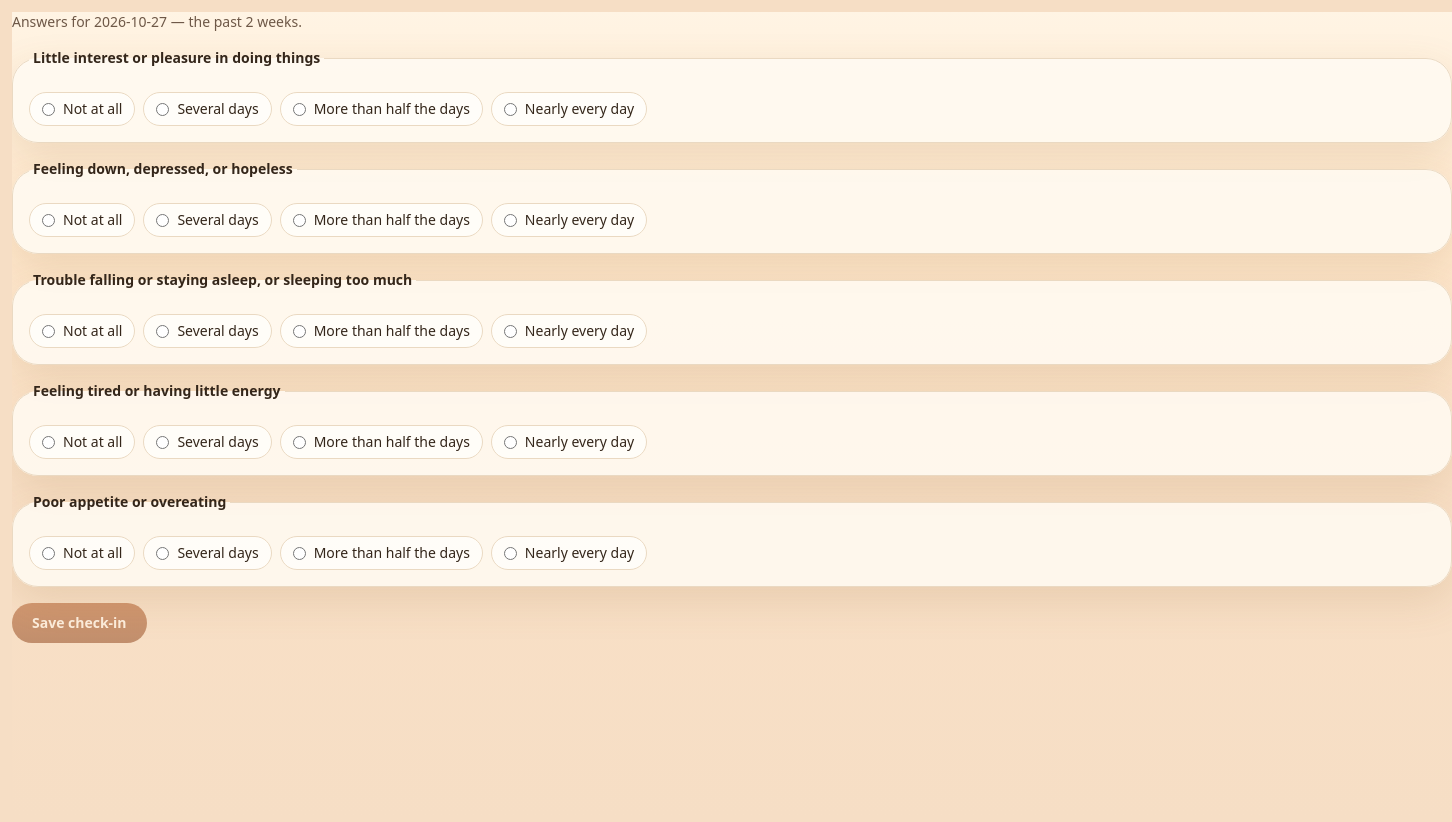
Test: CheckInForm error notices › shows the 422 copy verbatim in an alert
Click the 1st radio button labelled "Not at all".
click(48, 109)  # box [42,102,55,116]
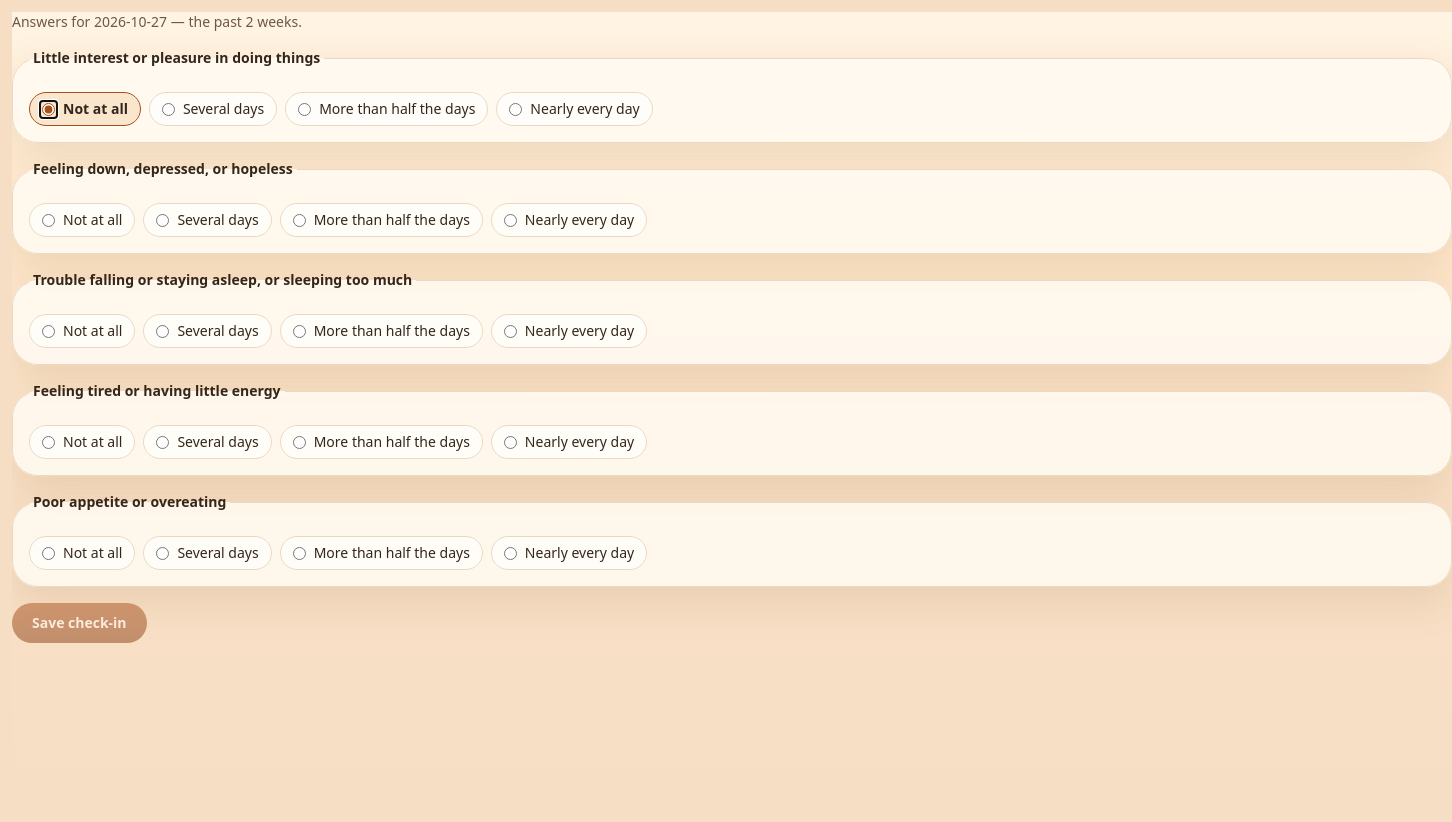
Click the radio button labelled "Not at all" below "Feeling down, depressed, or hopeless".
click(48, 220)  # box [42,214,55,226]
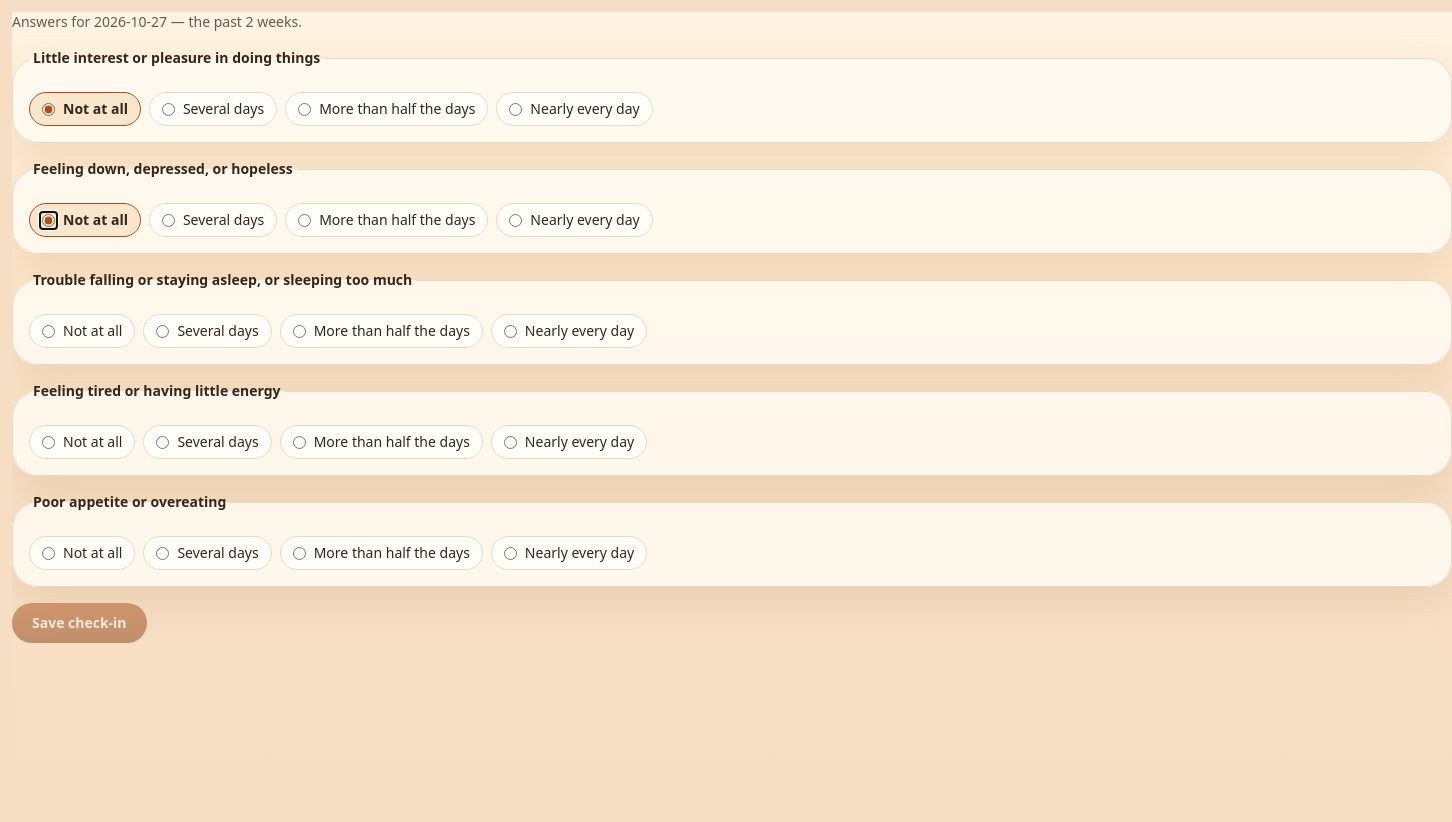
Click the 3rd radio button labelled "Not at all".
click(48, 331)  # box [42,324,55,338]
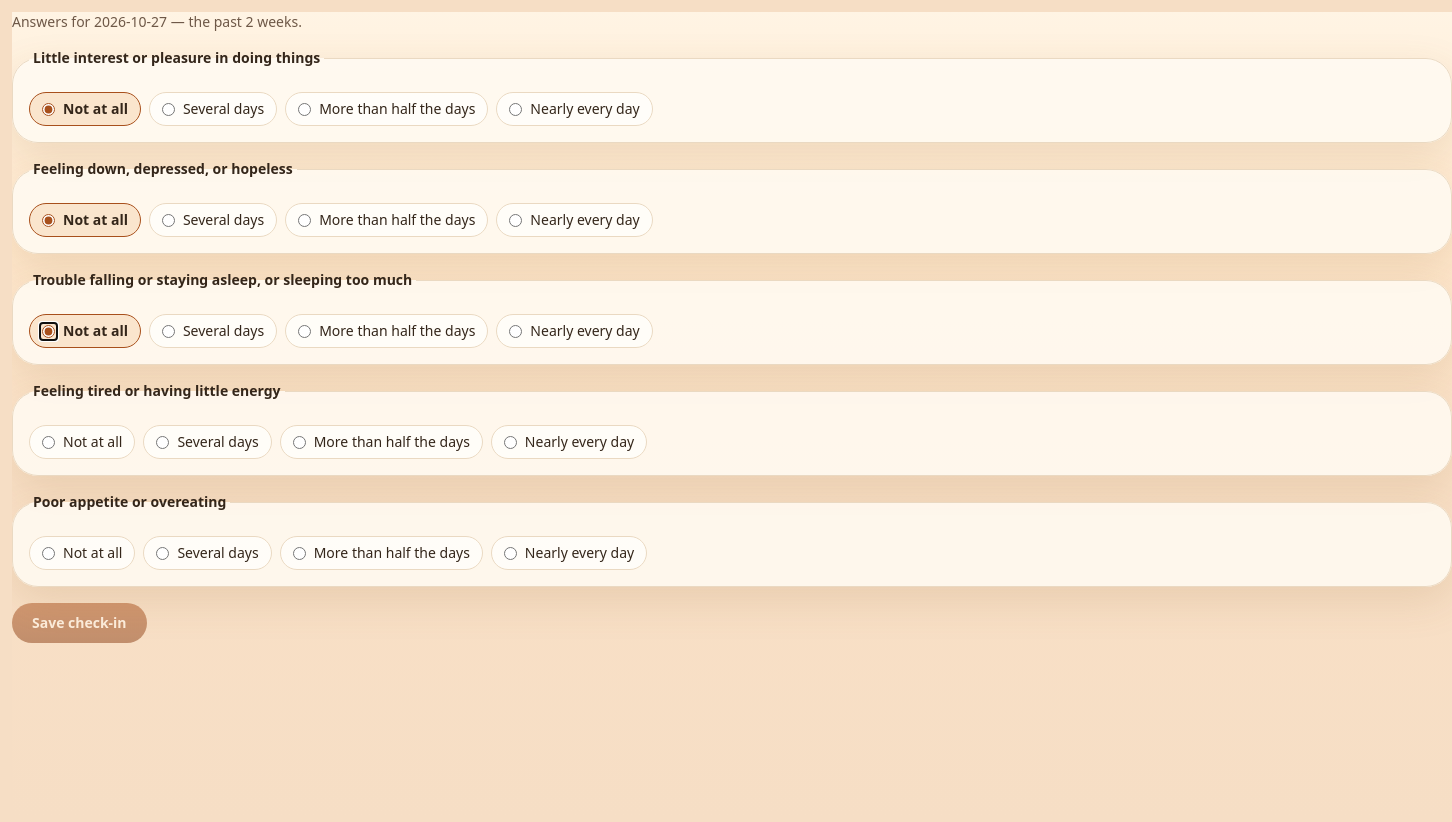
Click the radio button labelled "Not at all" below "Feeling tired or having little energy".
click(48, 442)  # box [42,436,55,448]
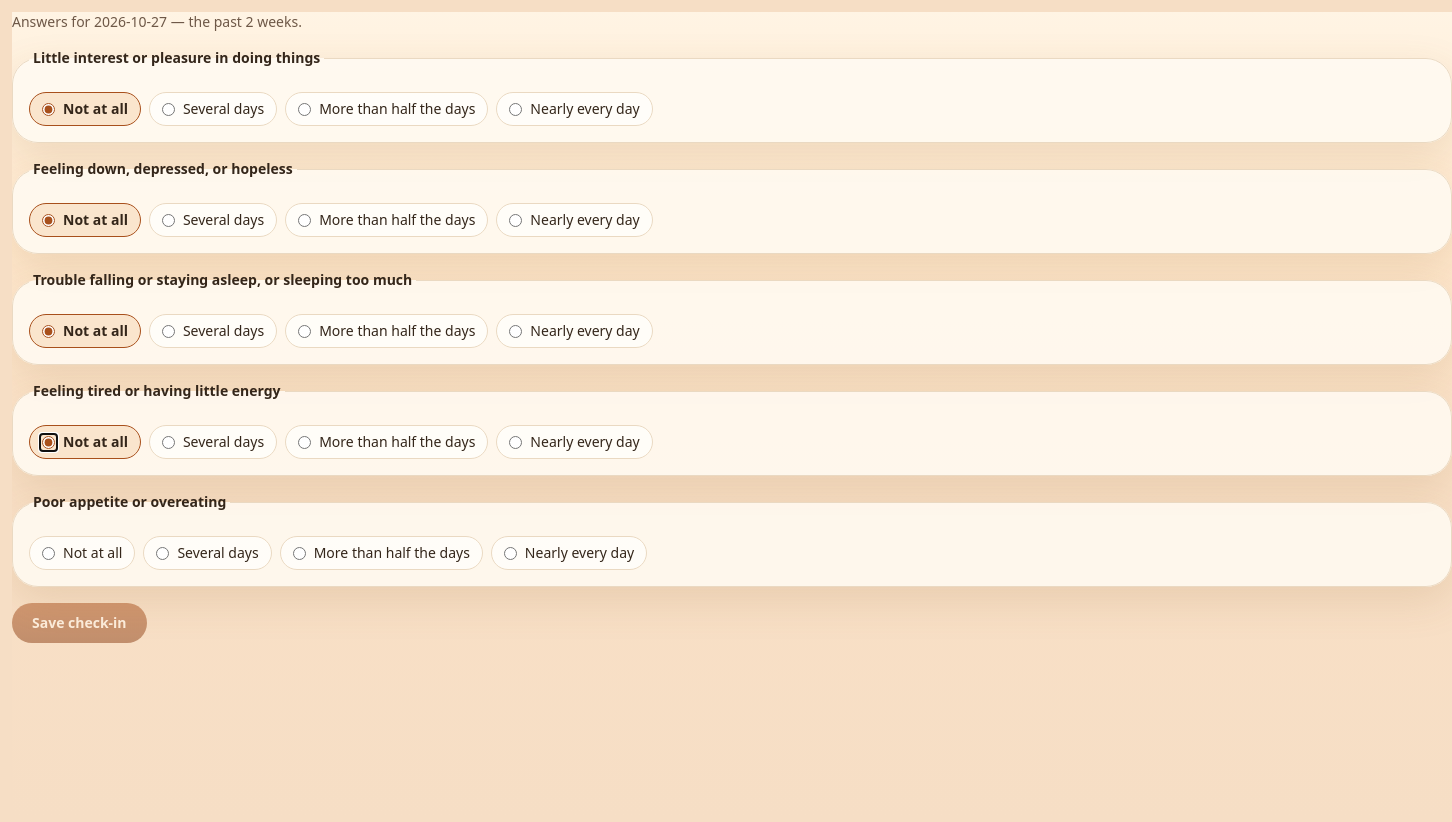
Click the radio button labelled "Not at all" below "Poor appetite or overeating".
click(48, 553)  # box [42,546,55,560]
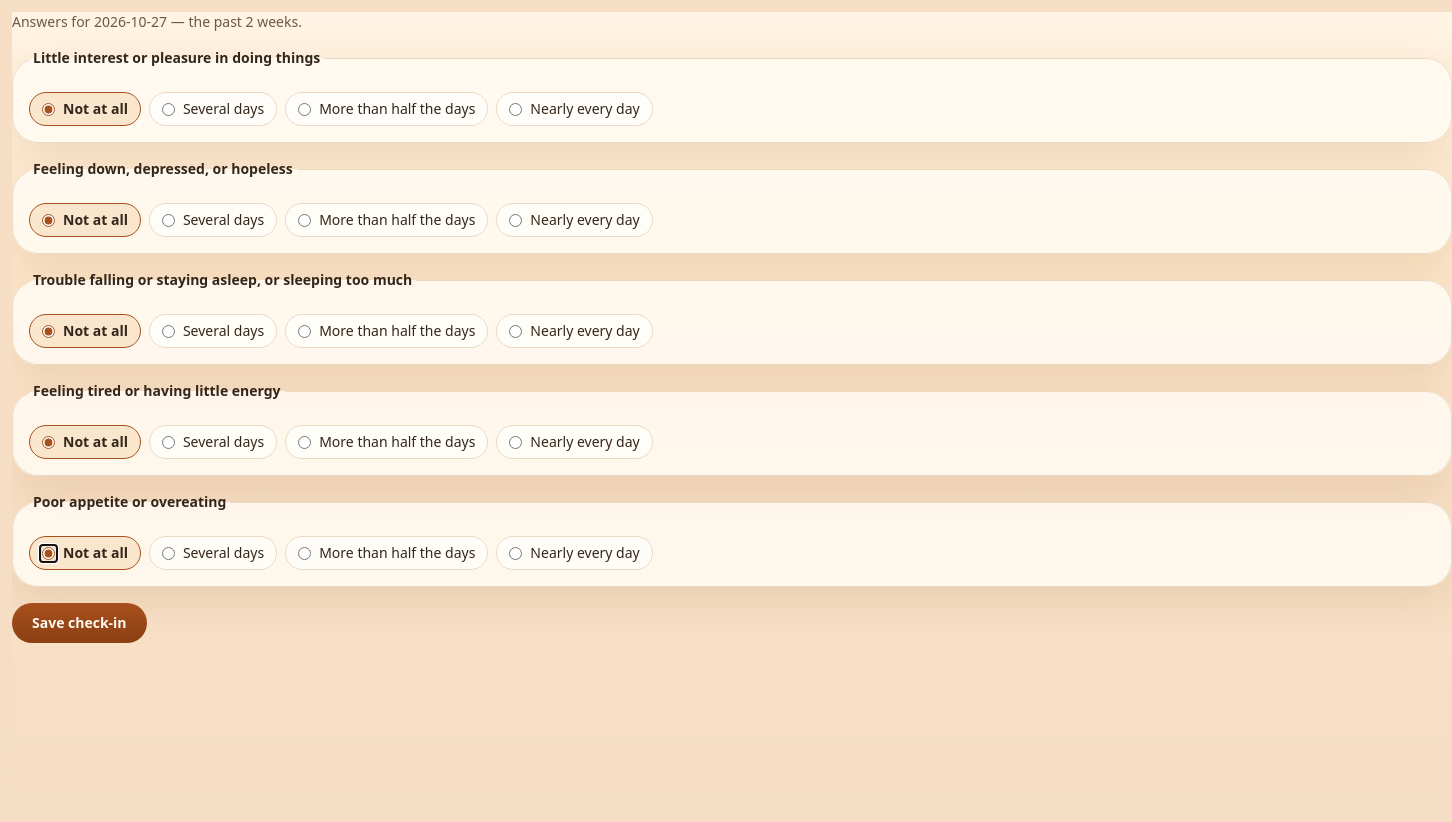
Click the button "Save check-in".
click(79, 623)  # box [12,603,147,643]
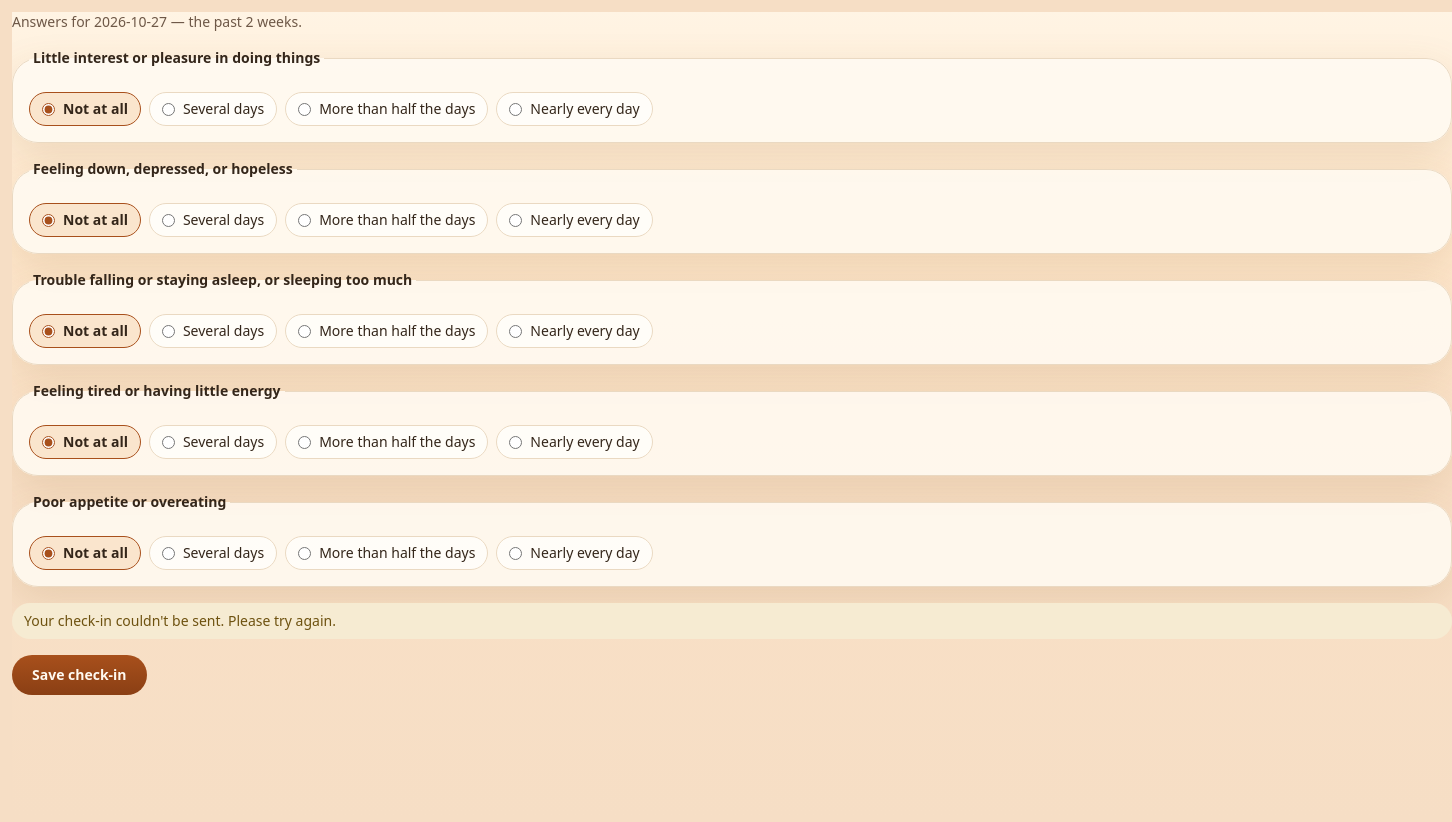
Result: the message reads "Your check-in couldn't be sent. Please try again." at [24,611,336,630]
